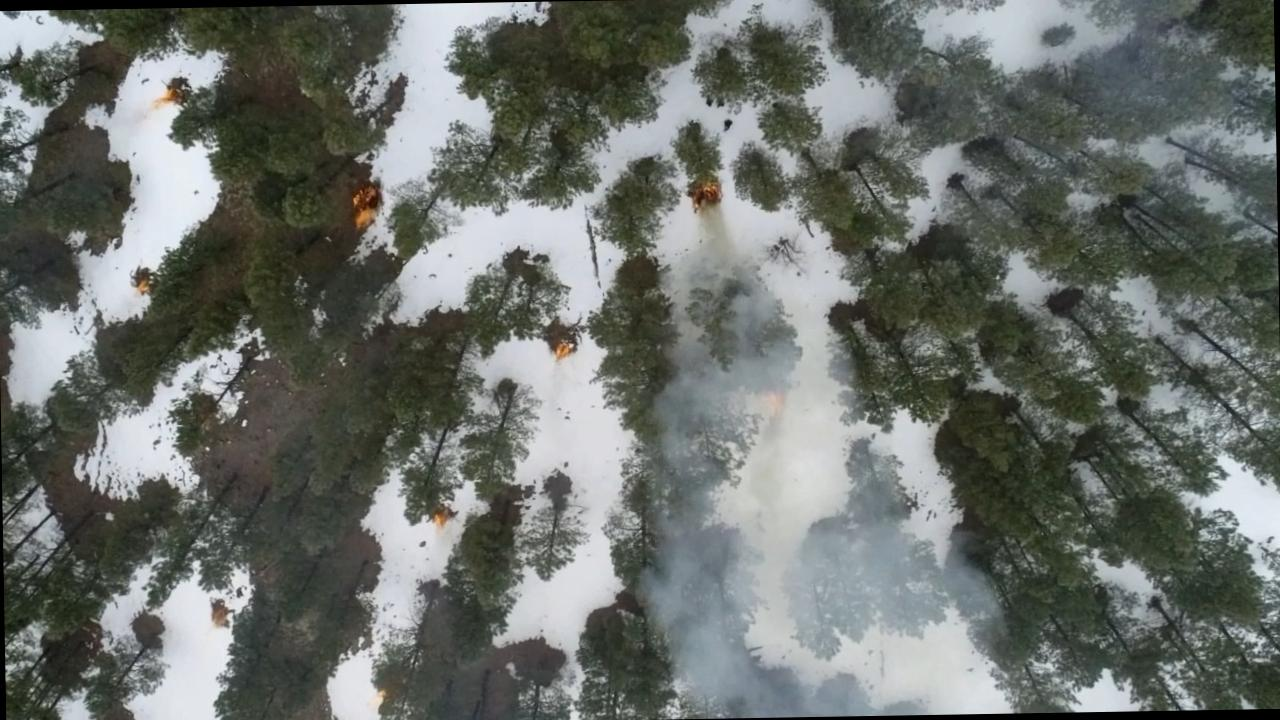fire: (342, 170, 383, 226), (752, 376, 792, 432), (684, 172, 728, 220), (548, 334, 579, 369), (426, 504, 455, 529)
smoke: (636, 480, 982, 720), (646, 299, 854, 484)
